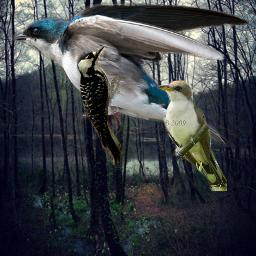Cuckoo: (157, 79, 227, 191)
Swallow: (12, 0, 251, 147)
Woodpecker: (71, 42, 132, 176)
